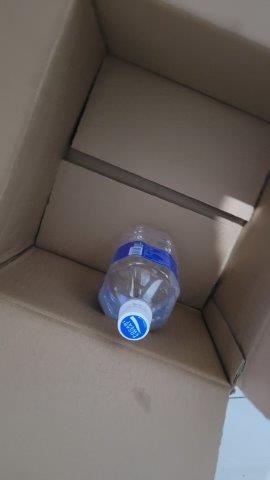botolplastik: (98, 225, 179, 338)
